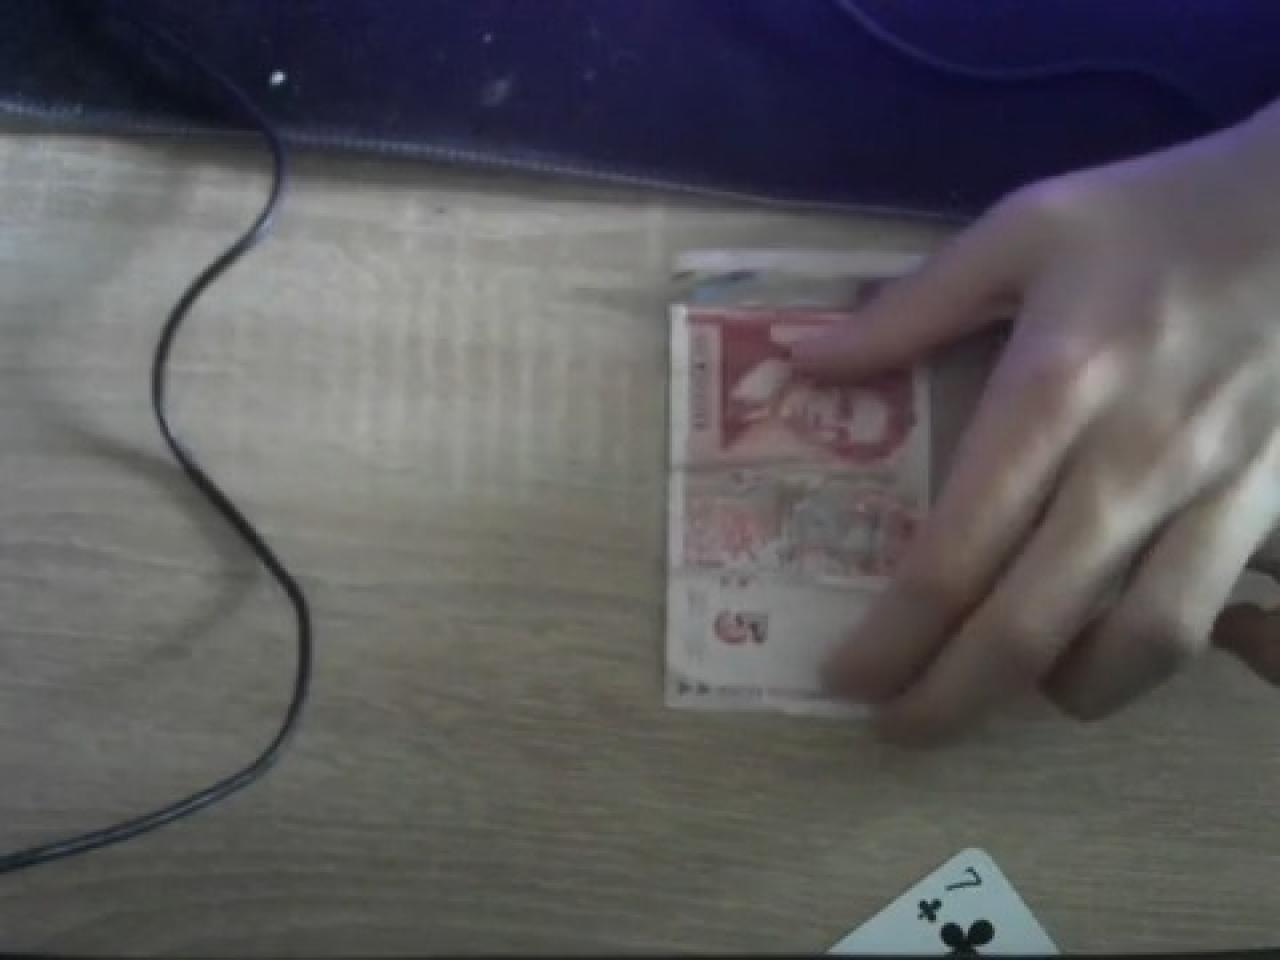5leva: (659, 251, 946, 715)
